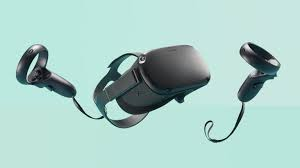oculus: (113, 44, 215, 119)
